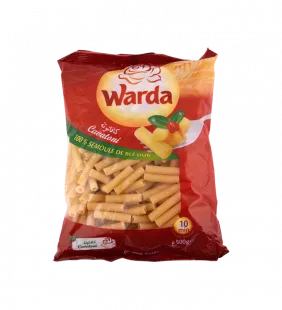LA ROSE BLANCHE: (45, 43, 236, 268)
